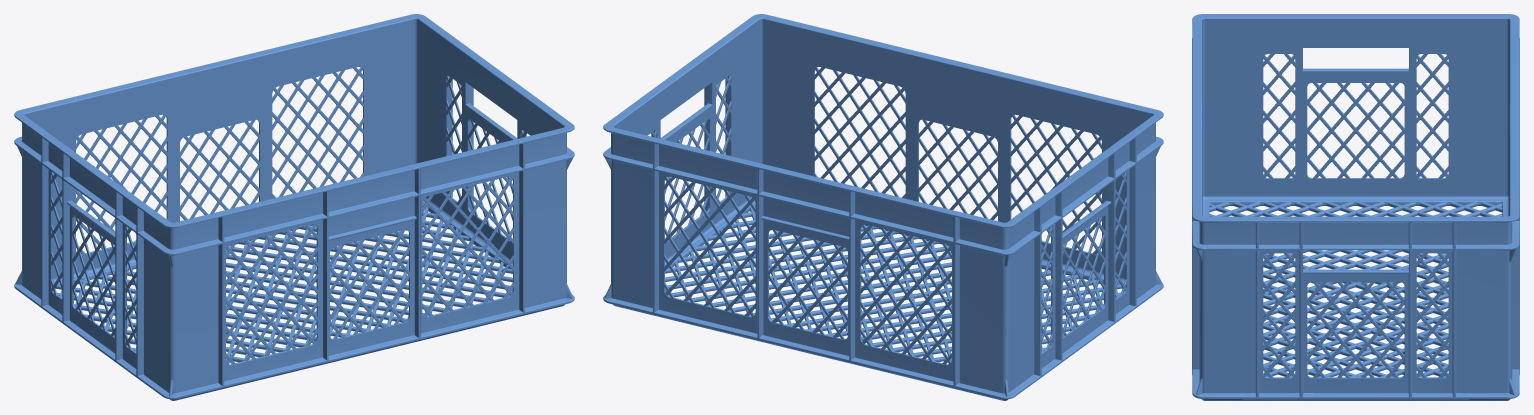
The model's file is crate_blue_a01.glb.
3 views of the same model, side by side, from view 1: azimuth 30°, elevation 25°; view 2: azimuth 150°, elevation 25°; view 3: azimuth 270°, elevation 25° (orthographic). The views are drawn at different scales.
Visible parts, largest first — view 1: sm_crate_a01_mesh_00; view 2: sm_crate_a01_mesh_00; view 3: sm_crate_a01_mesh_00.
Part boxes in pixels (bbox=[...]): sm_crate_a01_mesh_00: bbox=[14, 14, 574, 400]; sm_crate_a01_mesh_00: bbox=[603, 14, 1163, 400]; sm_crate_a01_mesh_00: bbox=[1192, 14, 1519, 400].
Size of the model in its own units: 0.6051 by 0.2532 by 0.4051.
